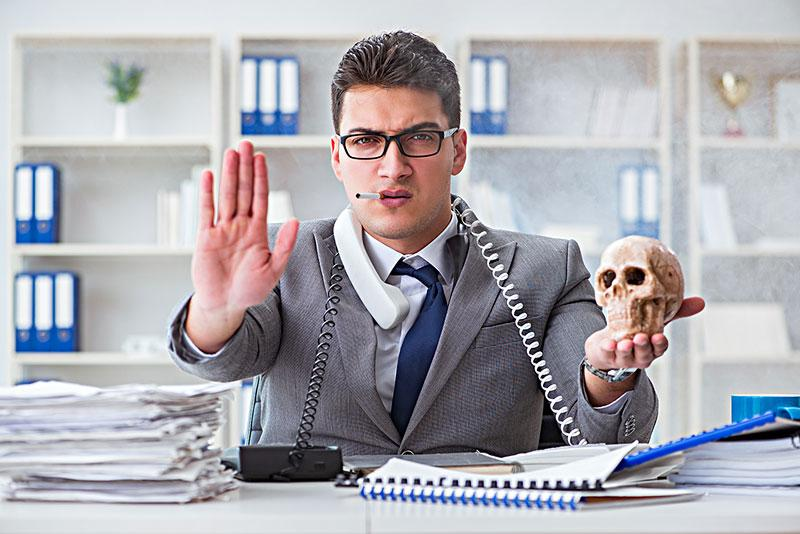smoke: (355, 192, 387, 199)
